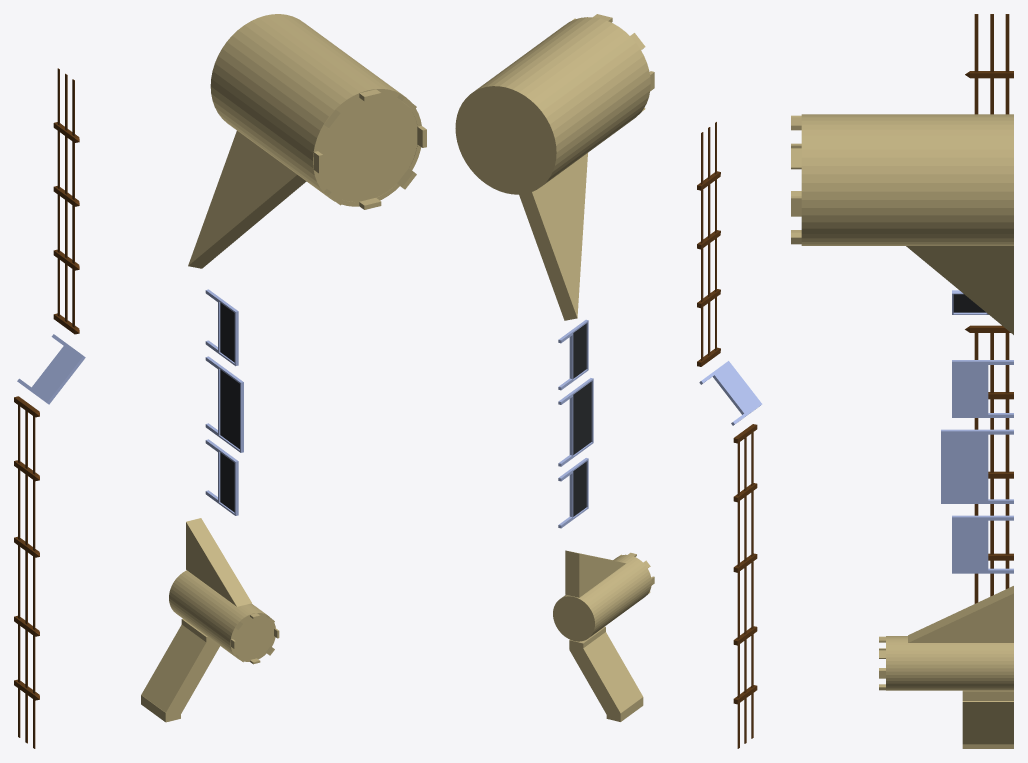
Rendered from castle-hill-1.obj.
3 renders of one model, left to right at view 1: azimuth 30°, elevation 25°; view 2: azimuth 150°, elevation 25°; view 3: azimuth 270°, elevation 25°, orthographic. The views are drawn at different scales.
Visible parts, largest first — view 1: group_0_12759680, group_0_6306067, group_0_11452141, group_0_2829873; view 2: group_0_12759680, group_0_6306067, group_0_11452141, group_0_2829873; view 3: group_0_12759680, group_0_11452141, group_0_6306067, group_0_2829873.
Boxes of the visible parts, x1,y1,x2,y2 form: group_0_12759680: (141, 14, 426, 722); group_0_6306067: (14, 68, 79, 748); group_0_11452141: (17, 289, 243, 515); group_0_2829873: (220, 302, 239, 512); group_0_12759680: (455, 14, 654, 721); group_0_6306067: (697, 122, 757, 748); group_0_11452141: (558, 319, 762, 528); group_0_2829873: (573, 323, 591, 516); group_0_12759680: (791, 114, 1013, 748); group_0_11452141: (941, 290, 1013, 573); group_0_6306067: (965, 14, 1013, 603); group_0_2829873: (953, 294, 985, 312).
Size of the model in its own units: 100 by 206 by 61.
